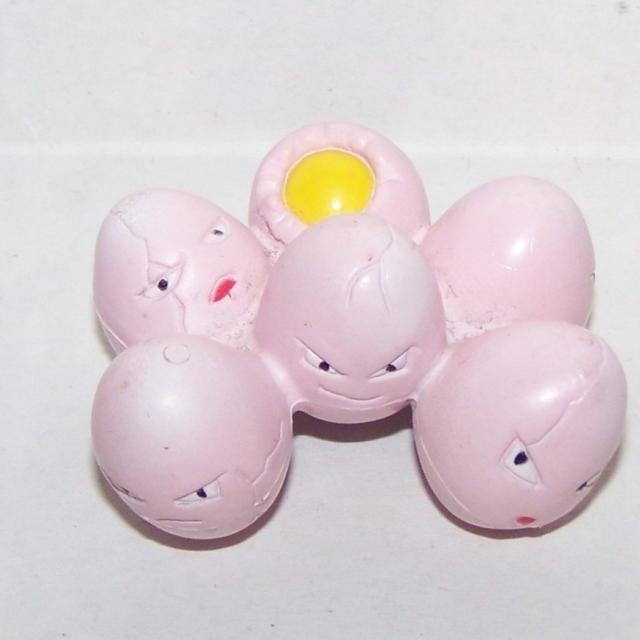Exeggcute: (82, 106, 602, 554)
